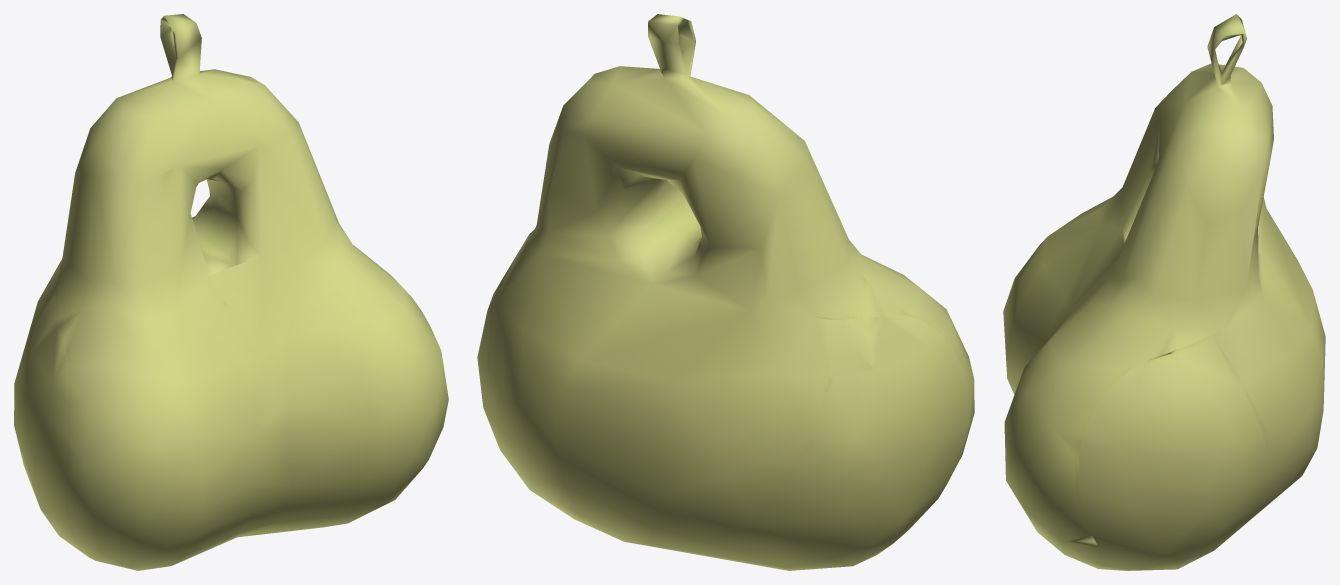
File: 压梨腰靠枕-Small.fbx
3 renders of one model, left to right at view 1: azimuth 30°, elevation 25°; view 2: azimuth 150°, elevation 25°; view 3: azimuth 270°, elevation 25°, orthographic. The views are drawn at different scales.
Visible parts, largest first — view 1: texture_pbr_v128; view 2: texture_pbr_v128; view 3: texture_pbr_v128.
Boxes of the visible parts, box(x1,y1,x2,y2) form: texture_pbr_v128: box(14, 14, 448, 570); texture_pbr_v128: box(477, 14, 974, 570); texture_pbr_v128: box(1003, 14, 1325, 570).
Size of the model in its own units: 87 by 108 by 62.92.
Materials: 1 (1 with a texture image).
